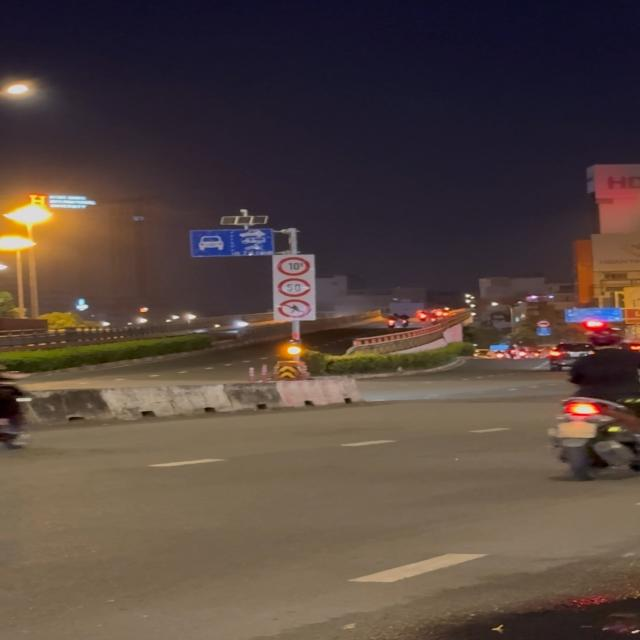Bien bao cam nguoi di bo: (276, 298, 312, 318)
Bien bao toc do toi da cho phep: (277, 277, 312, 298)
